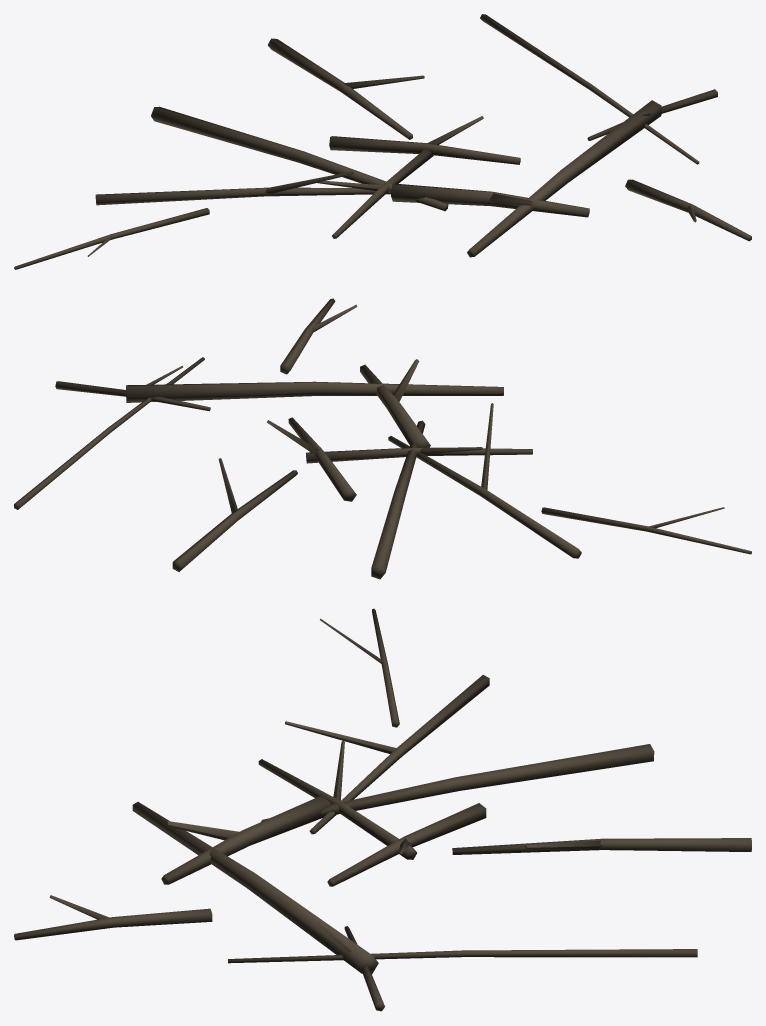
Rendered from dead_branch_scatter.glb.
3 views of the same model, one above another, from view 1: azimuth 30°, elevation 25°; view 2: azimuth 150°, elevation 25°; view 3: azimuth 270°, elevation 25° (orthographic). The views are drawn at different scales.
Visible parts, largest first — view 1: dead_branch_scatter_LOD0; view 2: dead_branch_scatter_LOD0; view 3: dead_branch_scatter_LOD0.
Part boxes in pixels (x1=…): dead_branch_scatter_LOD0: x1=14, y1=14, x2=751, y2=269; dead_branch_scatter_LOD0: x1=14, y1=298, x2=751, y2=579; dead_branch_scatter_LOD0: x1=14, y1=608, x2=751, y2=1011.
Size of what is drawn, in the model's own units: 3.36 by 0.2489 by 2.63.
